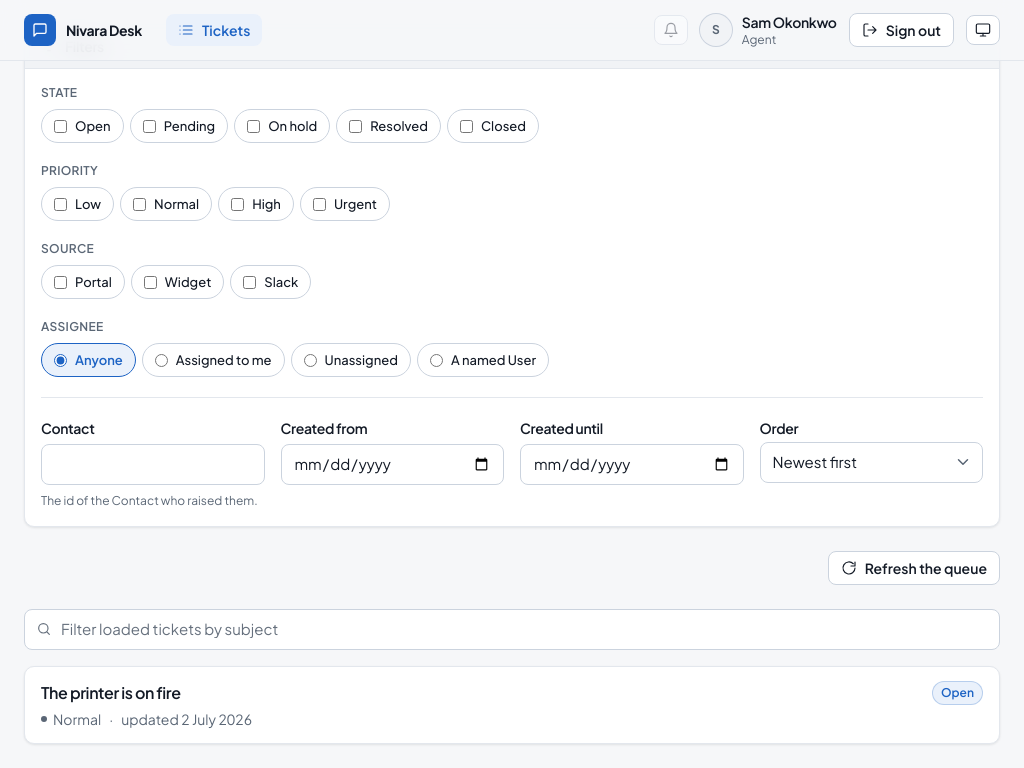
it: the audit timeline › shows who changed what, and when
(page scrolled)
Click the button "The printer is on fire Normal · updated 2 July 2026 Open". click: [111, 692]
box: [25,666,999,742]
(page scrolled)
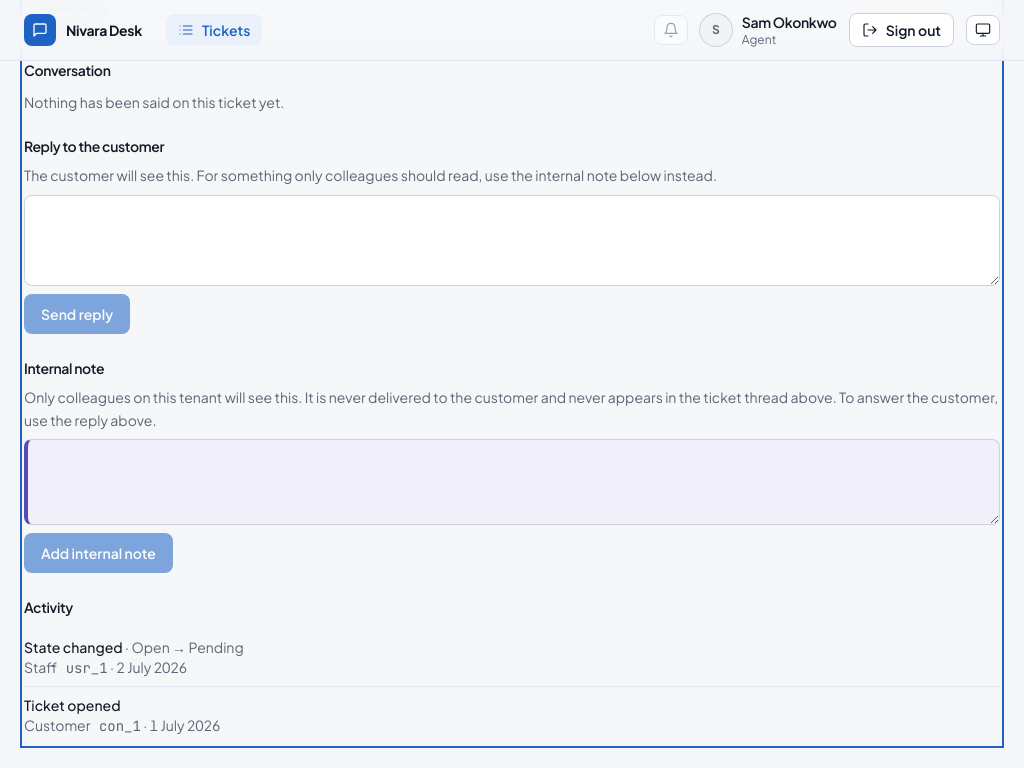
Now the list item "State changed · Open → Pending Staff usr_1 · 2 July 2026" is shown, box [24,629,1000,687]
Now the list item "Ticket opened Customer con_1 · 1 July 2026" is shown, box [24,696,220,735]
